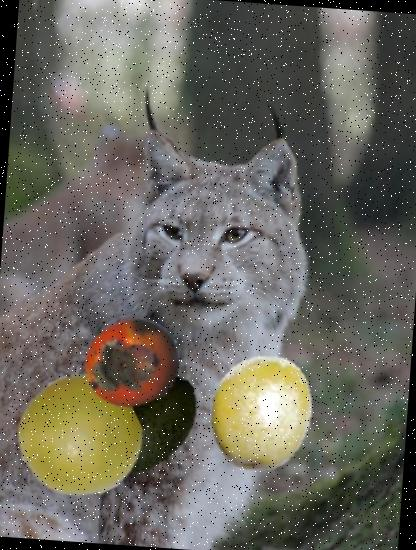Avocado: (74, 356, 209, 490)
Grape: (13, 372, 144, 503)
Kaki: (79, 310, 185, 416)
Maracuja: (198, 349, 324, 476)
